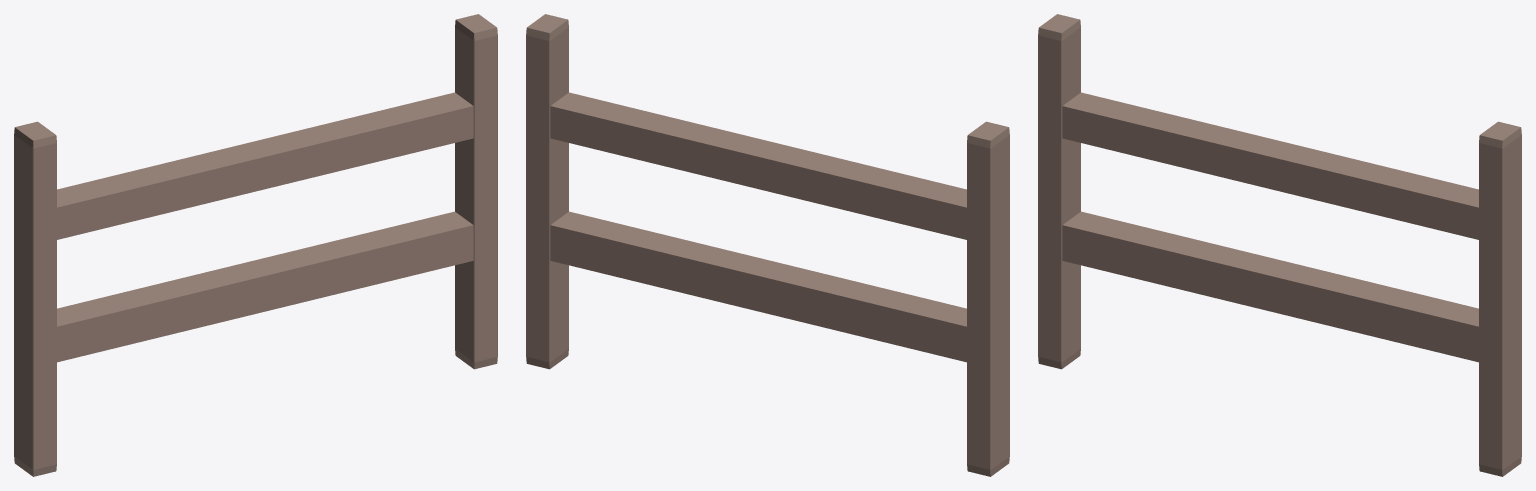
Rendered from fence2.fbx.
The picture shows the model from 3 angles, left to right: view 1: azimuth 30°, elevation 25°; view 2: azimuth 150°, elevation 25°; view 3: azimuth 330°, elevation 25°; orthographic projection.
Parts seen in each view (by area): view 1: fence2; view 2: fence2; view 3: fence2.
Boxes of the visible parts, bbox=[...] form: fence2: bbox=[14, 14, 497, 476]; fence2: bbox=[526, 14, 1009, 476]; fence2: bbox=[1038, 14, 1521, 476].
Size of the model in its own units: 1816 by 1254 by 133.
